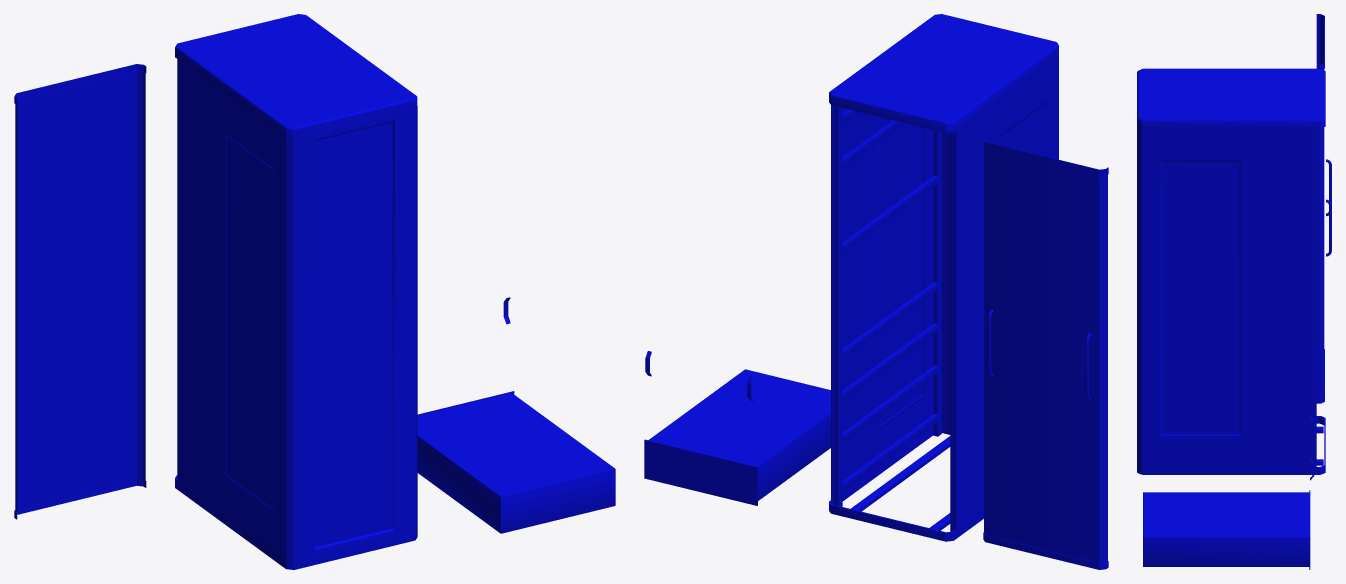
Rendered from SC_Low_EXP.FBX.
The picture shows the model from 3 angles, left to right: view 1: azimuth 30°, elevation 25°; view 2: azimuth 150°, elevation 25°; view 3: azimuth 270°, elevation 25°; orthographic projection. The views are drawn at different scales.
Parts seen in each view (by area): view 1: Server_Rack_Low_EXP; view 2: Server_Rack_Low_EXP; view 3: Server_Rack_Low_EXP.
Part boxes in pixels (x1,y1,x2,y2): Server_Rack_Low_EXP: [14, 14, 615, 569]; Server_Rack_Low_EXP: [644, 14, 1108, 569]; Server_Rack_Low_EXP: [1137, 14, 1331, 569].
Bounding box in the file's own units: 85.49 × 76.5 × 36.37.
